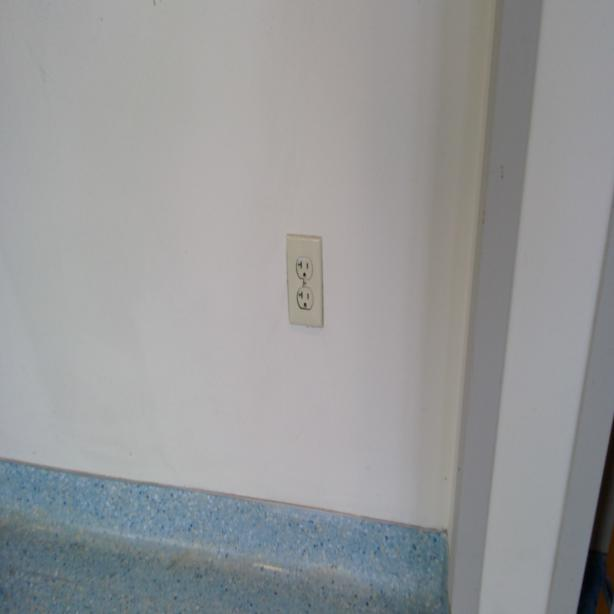typeb: (296, 257, 313, 282), (296, 289, 312, 311)
